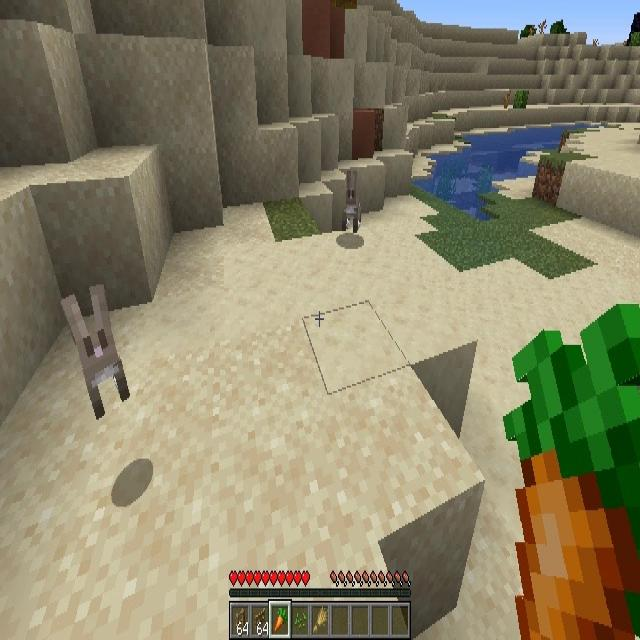rabbit: (60, 284, 130, 420), (342, 170, 362, 232)
